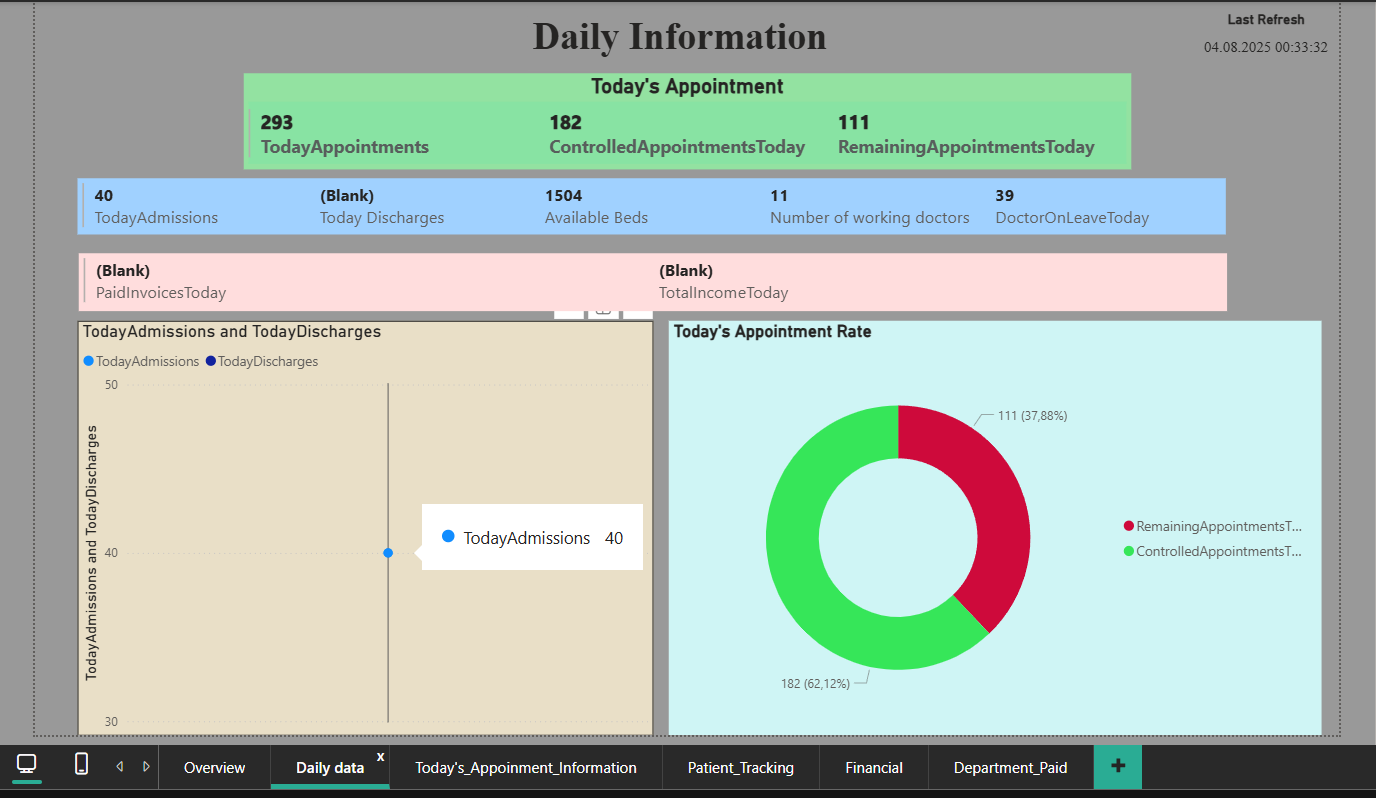

The page's visual inventory and layout, read from the dashboard file:
{"tool":"powerbi","page":{"name":"Daily data","canvas":[1280,720],"ordinal":1},"visuals":[{"type":"multiRowCard","title":"Today''s Appointment","fields":{"Values":["Appointments.TodayAppointments","Appointments.ControlledAppointmentsToday","Appointments.RemainingAppointmentsToday"]},"box":[204.9,69.9,871.2,94.5],"z":0},{"type":"donutChart","title":"Today''s Appointment Rate","fields":{"Y":["Appointments.RemainingAppointmentsToday","Appointments.ControlledAppointmentsToday"]},"box":[621.9,312.8,640.8,407.1],"z":1000},{"type":"textbox","box":[484,7.4,311.7,60.1],"z":2000},{"type":"multiRowCard","fields":{"Values":["Inpatients.TodayAdmissions","Inpatients.Today Discharges","Inpatients.Available Beds","DoctorAvailability.Doctorava","DoctorAvailability.Doctor on leave"]},"box":[41.5,173.4,1127,55.3],"z":3000},{"type":"lineChart","fields":{"Y":["Inpatients.TodayAdmissions","Inpatients.TodayDischarges"]},"box":[41.5,312.8,565.4,407.1],"z":4000},{"type":"multiRowCard","fields":{"Values":["Invoices.PaidInvoicesToday","Invoices.TotalIncomeToday"]},"box":[42.7,246.3,1127,56.5],"z":5000},{"type":"card","title":"Last Refresh","fields":{"Values":["AppointmentSchedule.LastRefresh"]},"box":[1137.4,9.8,142.3,57.7],"z":6000}]}

Visuals, with their boxes in screenshot pixels (x1, y1, x2, y2):
"Today''s Appointment" multiRowCard: x1=242, y1=71, x2=1133, y2=168
"Today''s Appointment Rate" donutChart: x1=668, y1=320, x2=1323, y2=736
textbox: x1=527, y1=8, x2=846, y2=69
multiRowCard - Inpatients.TodayAdmissions x Inpatients.Today Discharges: x1=75, y1=177, x2=1227, y2=234
lineChart - Inpatients.TodayAdmissions x Inpatients.TodayDischarges: x1=75, y1=320, x2=653, y2=736
multiRowCard - Invoices.PaidInvoicesToday x Invoices.TotalIncomeToday: x1=76, y1=252, x2=1228, y2=310
"Last Refresh" card: x1=1195, y1=10, x2=1341, y2=69
